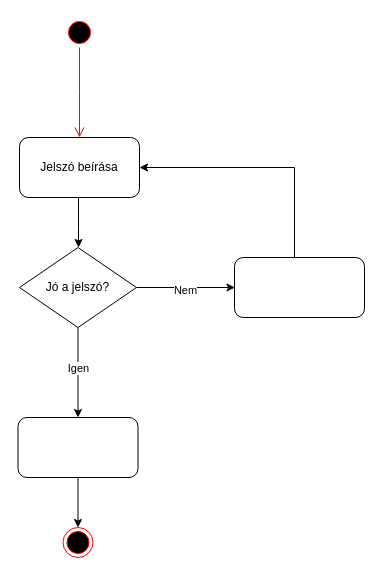
Some shapes in this 382 by 575 pixel diagram are drawn without their labels. Here are the shapes that lost their labels. From the top down, the centre of each, then its label:
the point at 299,287: Hibaüzenet
the point at 77,447: Átirányítás a főoldalra
